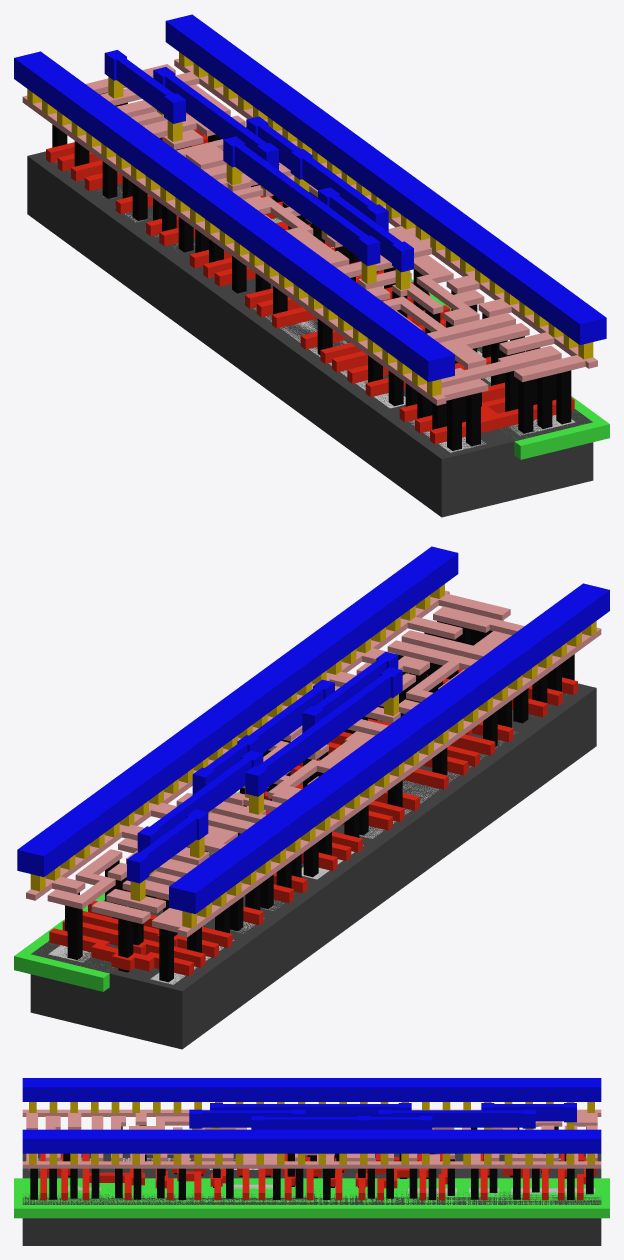
The model's file is sky130_fd_sc_hd__sdfstp_2.obj.
3 renders of one model, top to bottom at view 1: azimuth 30°, elevation 25°; view 2: azimuth 150°, elevation 25°; view 3: azimuth 270°, elevation 25°, orthographic. The views are drawn at different scales.
Visible parts, largest first — view 1: metal1, subs, li, licon, poly, mcon, nwell, diff; view 2: metal1, subs, li, poly, licon, mcon, nwell, diff; view 3: metal1, subs, nwell, li, poly, licon, mcon, tap.
Part boxes in pixels (bbox=[...]): metal1: bbox=[14, 14, 606, 381]; subs: bbox=[27, 151, 593, 517]; li: bbox=[22, 58, 597, 405]; licon: bbox=[52, 92, 571, 450]; poly: bbox=[46, 129, 574, 444]; mcon: bbox=[27, 52, 593, 396]; nwell: bbox=[204, 134, 609, 459]; diff: bbox=[118, 187, 485, 452]; metal1: bbox=[17, 546, 609, 913]; subs: bbox=[30, 683, 596, 1049]; li: bbox=[26, 590, 601, 937]; poly: bbox=[49, 669, 577, 976]; licon: bbox=[65, 620, 574, 982]; mcon: bbox=[30, 584, 596, 928]; nwell: bbox=[14, 720, 378, 991]; diff: bbox=[150, 716, 532, 984]; metal1: bbox=[22, 1078, 601, 1153]; subs: bbox=[22, 1153, 601, 1245]; nwell: bbox=[14, 1178, 609, 1218]; li: bbox=[22, 1109, 601, 1168]; poly: bbox=[40, 1153, 596, 1200]; licon: bbox=[30, 1125, 593, 1199]; mcon: bbox=[29, 1102, 594, 1164]; tap: bbox=[58, 1184, 595, 1197].
Bounding box in the file's own units: 3.2 × 2.74 × 13.26.
